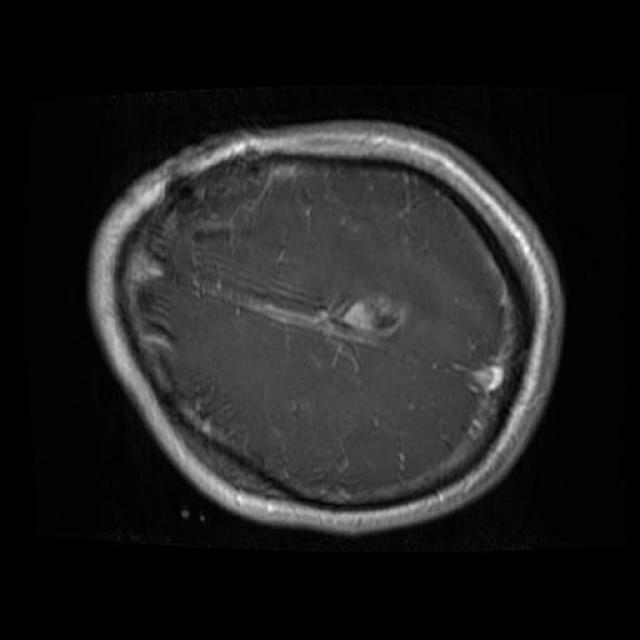Glioma: (341, 297, 399, 330)
